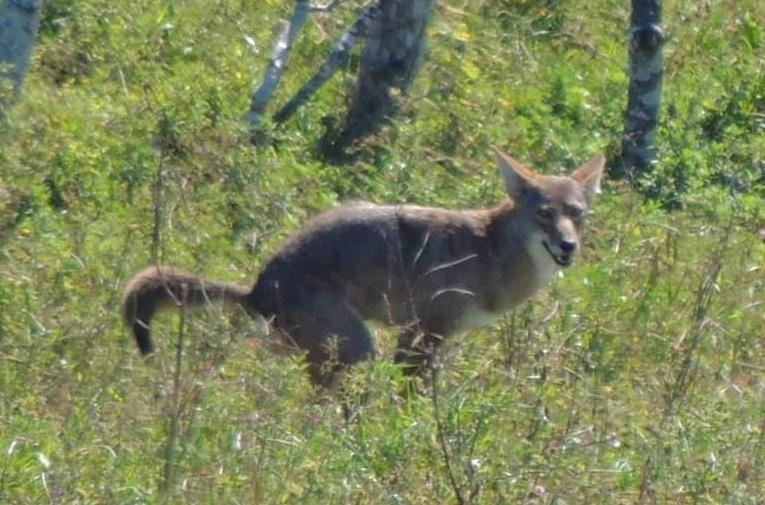Coyote: (123, 144, 610, 388)
